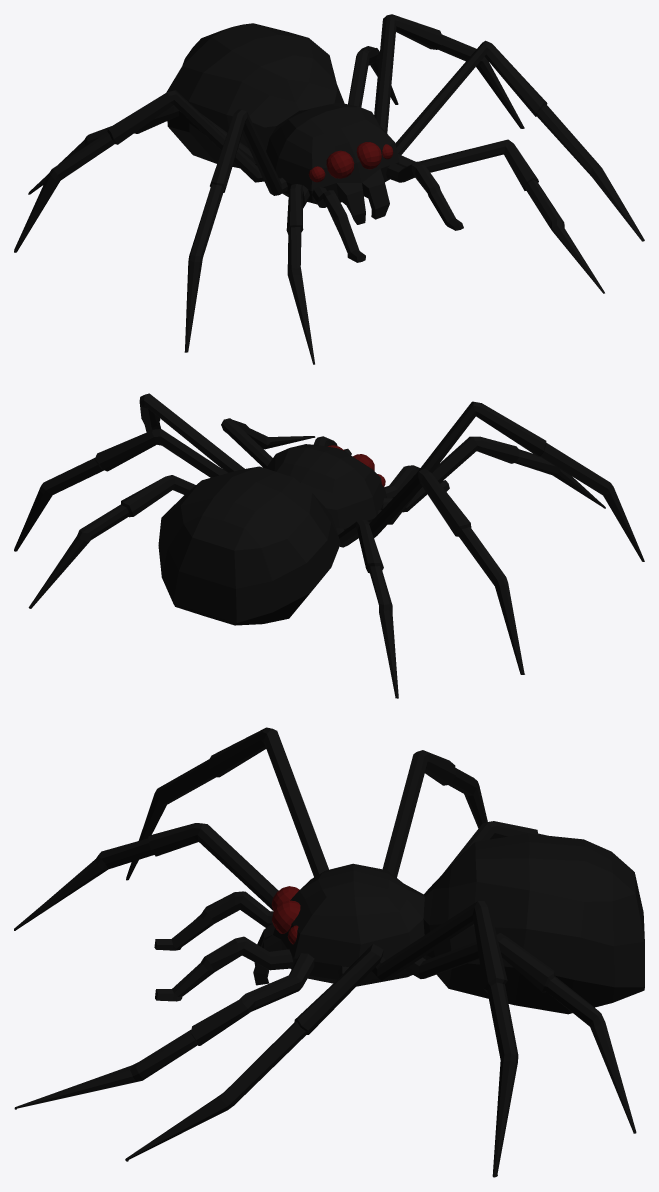
File: Spider.obj
3 views of the same model, one above another, from view 1: azimuth 30°, elevation 25°; view 2: azimuth 150°, elevation 25°; view 3: azimuth 270°, elevation 25° (orthographic). The views are drawn at different scales.
Parts seen in each view (by area): view 1: Cube; view 2: Cube; view 3: Cube.
Boxes of the visible parts, bbox=[...] form: Cube: bbox=[14, 14, 644, 364]; Cube: bbox=[14, 393, 644, 698]; Cube: bbox=[14, 727, 644, 1177].
Size of the model in its own units: 5.93 by 1.93 by 5.03.
